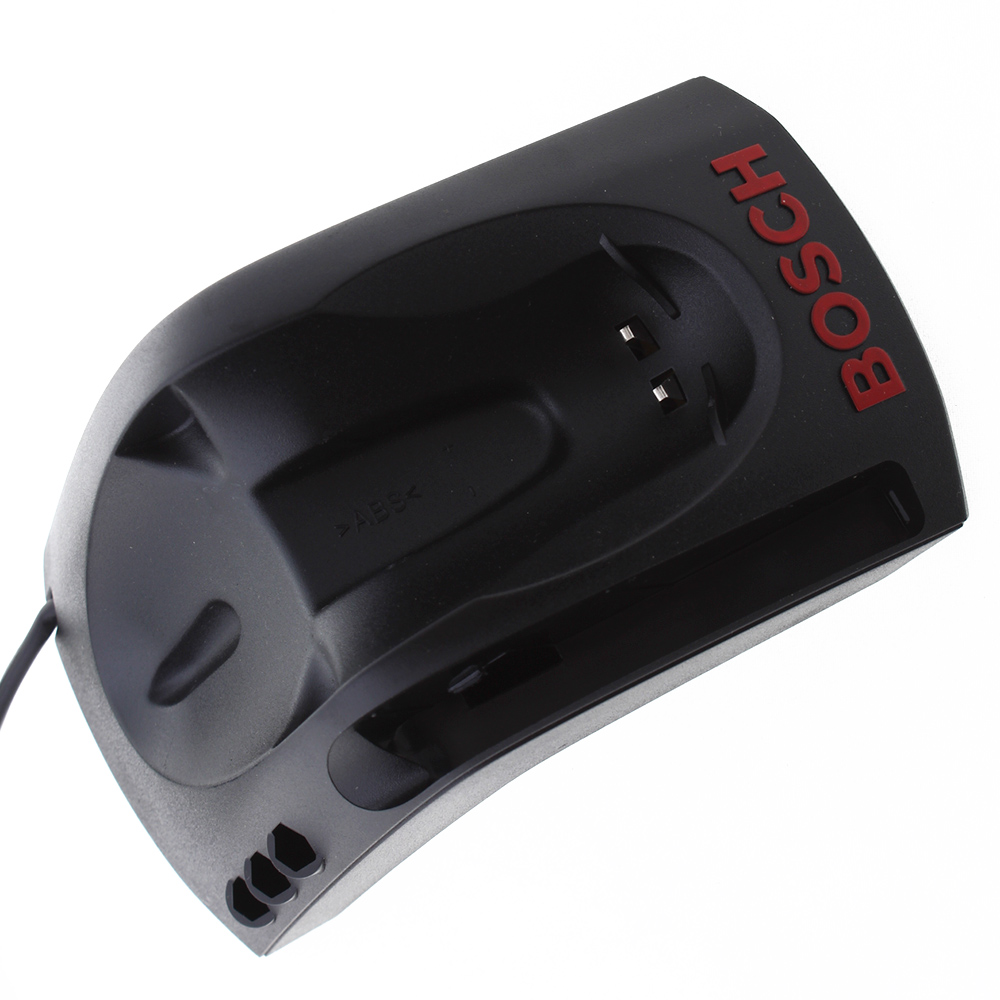Bosch: (706, 136, 911, 418)
